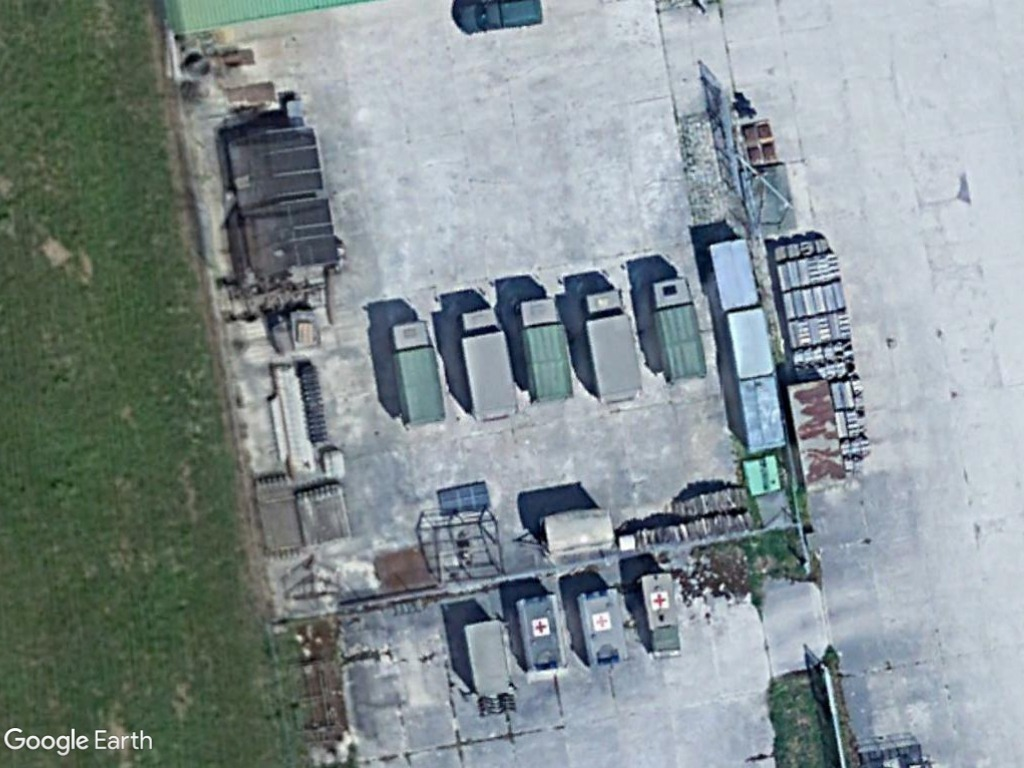truck: (576, 282, 648, 409), (454, 302, 519, 424), (514, 289, 577, 408), (646, 272, 709, 388), (387, 313, 448, 429)
